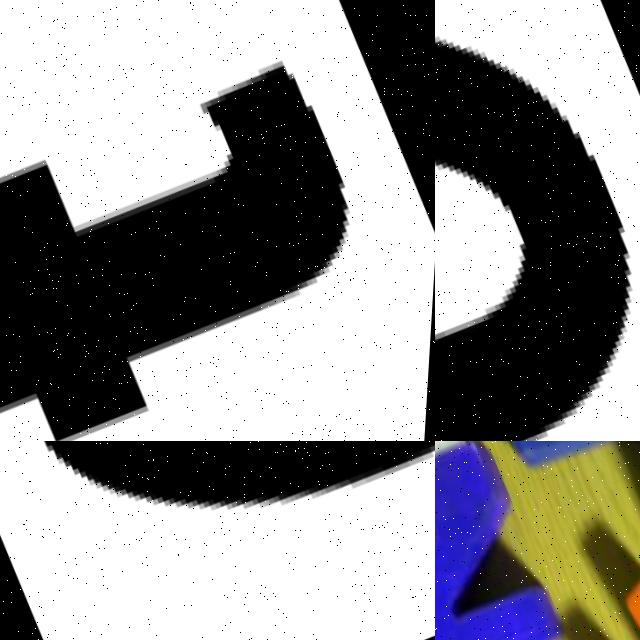0: (0, 441, 435, 628)
C: (435, 30, 633, 441)
E: (493, 538, 640, 640)
N: (435, 441, 584, 640)
P: (457, 441, 640, 507)
T: (0, 7, 420, 441)
